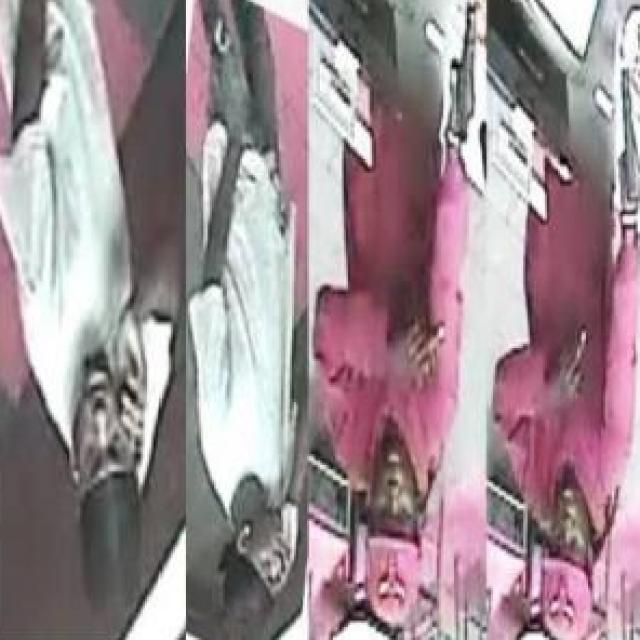pistol: (444, 0, 493, 165), (610, 68, 640, 236)
